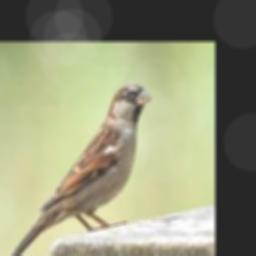Sparrow: (6, 85, 151, 256)
